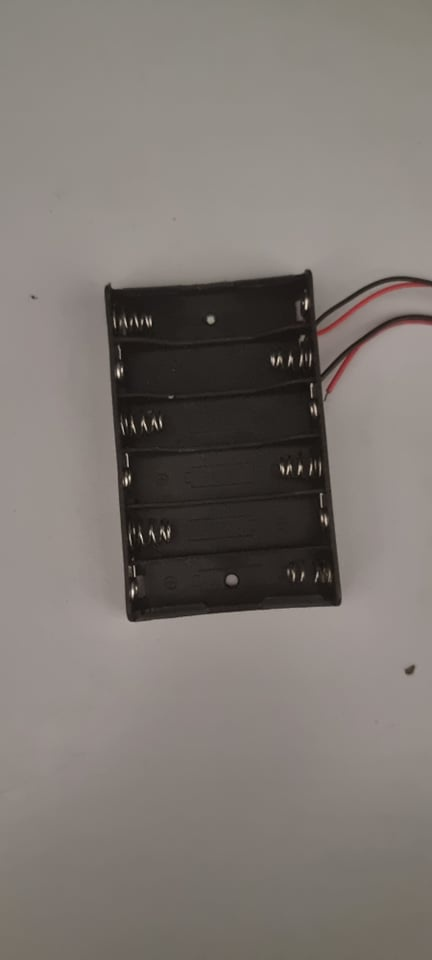BATTERY BOX: (105, 264, 357, 623)
